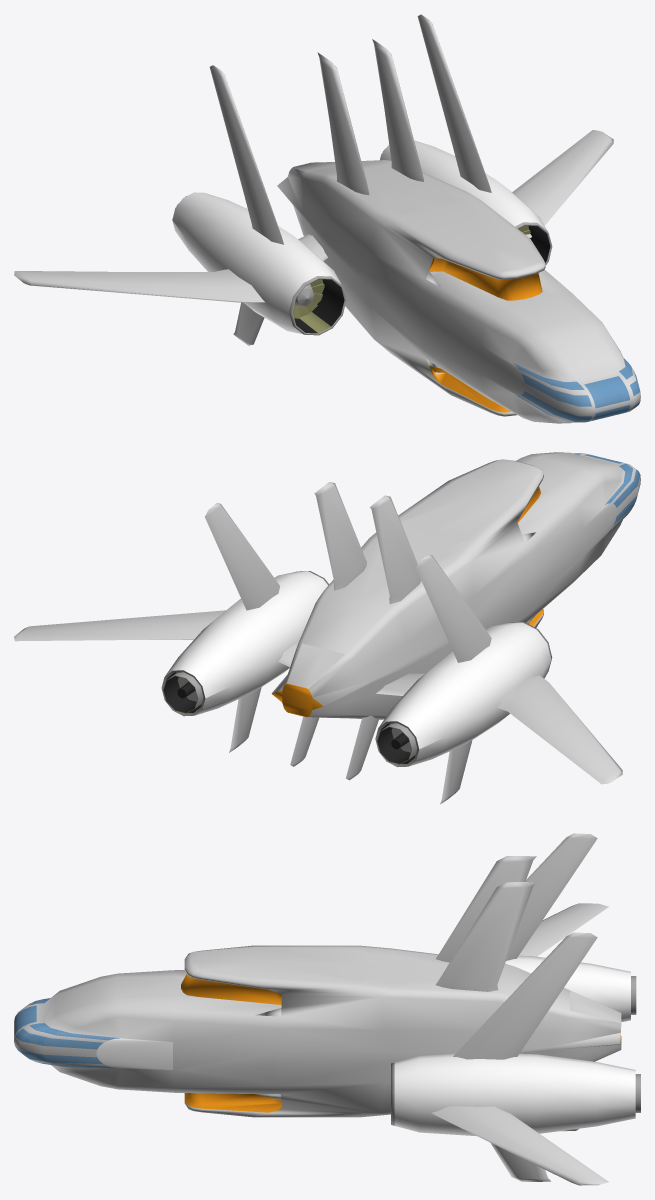
The picture shows the model from 3 angles, top to bottom: view 1: azimuth 30°, elevation 25°; view 2: azimuth 150°, elevation 25°; view 3: azimuth 270°, elevation 25°; orthographic projection. The views are drawn at different scales.
Visible parts, largest first — view 1: Group_005, Group_009, Group_003, Group_001, Group_002, Group_008, Group_004, Group_007, Group_006; view 2: Group_005, Group_009, Group_008, Group_003, Group_001, Group_004, Group_002, Group_006, Group_007; view 3: Group_005, Group_008, Group_004, Group_007, Group_002, Group_001, Group_009, Group_006, Group_003.
Boxes of the visible parts, x1,y1,x2,y2 form: Group_005: (277, 160, 640, 423); Group_009: (172, 192, 346, 335); Group_003: (14, 234, 327, 302); Group_001: (209, 65, 283, 345); Group_002: (512, 130, 613, 237); Group_008: (380, 140, 552, 265); Group_004: (417, 14, 491, 192); Group_007: (372, 39, 423, 181); Group_006: (317, 52, 369, 195); Group_005: (271, 452, 640, 719); Group_009: (375, 622, 552, 767); Group_008: (161, 571, 328, 716); Group_003: (376, 673, 622, 784); Group_001: (416, 554, 491, 804); Group_004: (205, 502, 279, 752); Group_002: (14, 610, 298, 667); Group_006: (346, 495, 421, 780); Group_007: (290, 482, 366, 766); Group_005: (14, 945, 621, 1117); Group_008: (391, 1053, 640, 1136); Group_004: (453, 932, 597, 1181); Group_007: (435, 882, 578, 1131); Group_002: (431, 1106, 608, 1185); Group_001: (506, 833, 597, 960); Group_009: (505, 955, 636, 1022); Group_006: (436, 856, 536, 962); Group_003: (519, 903, 608, 956).
Bounding box in the file's own units: 337 × 148 × 318.
